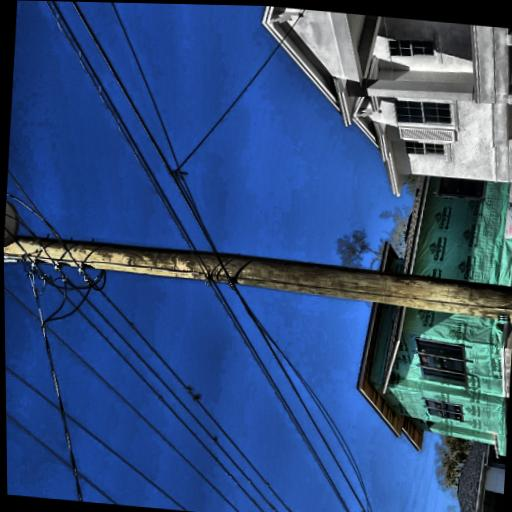pole: (51, 1, 155, 505)
street light: (10, 8, 126, 119)
transformer: (120, 7, 174, 114)
